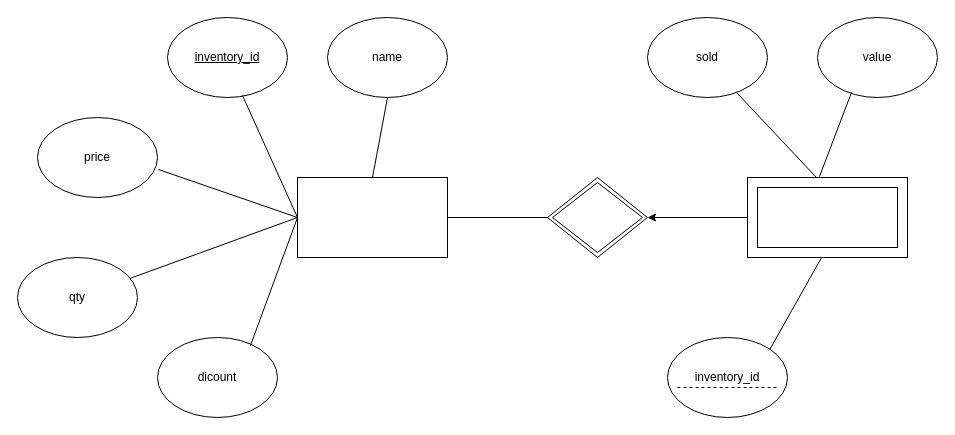
The diagram is 955 pixels wide and 435 high, and some of its shapes have lost their labels. Here are the shapes that lost their labels. From the top down, the centre of each, then its label:
At [372,217]: "Inventory".
At [597,217]: "Manager".
At [827,217]: "Sales".
